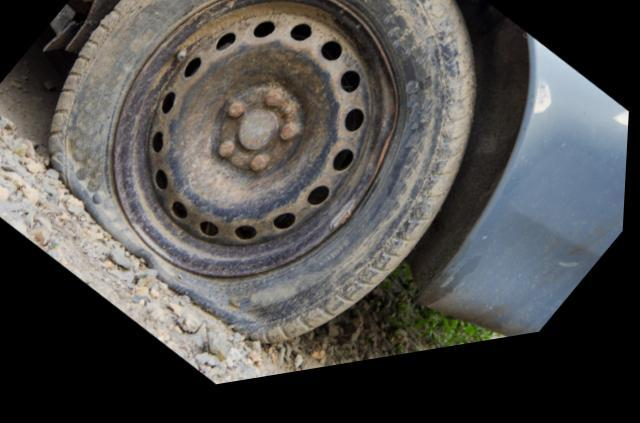tire flat: (50, 0, 478, 355)
